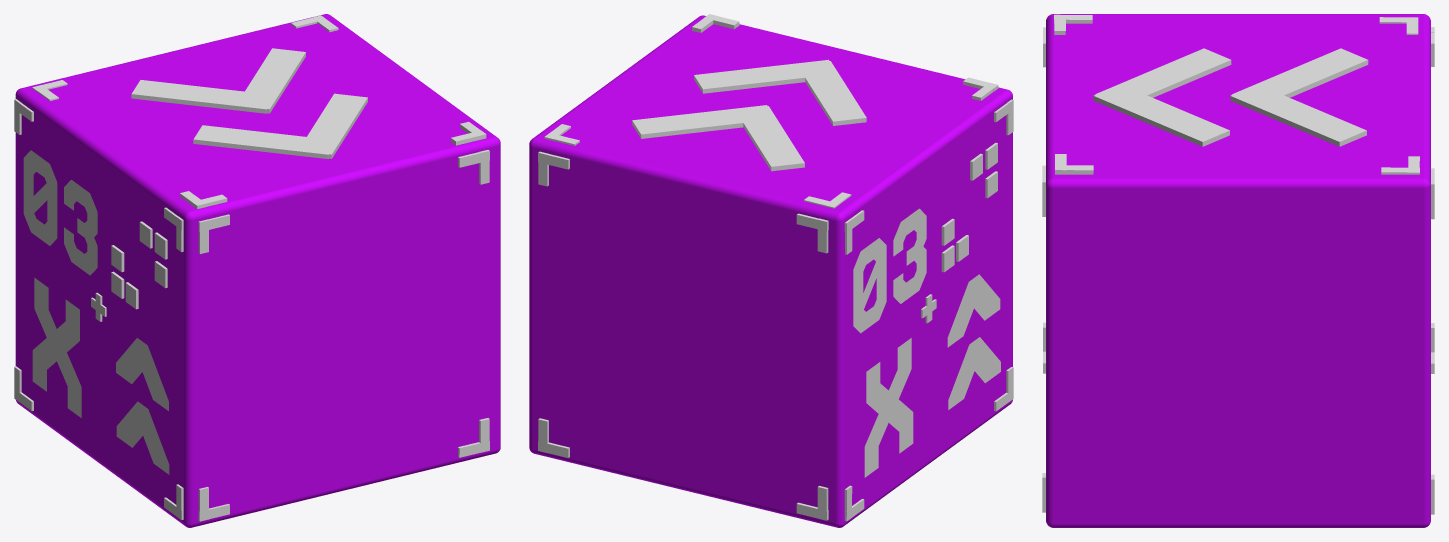
3 views of the same model, side by side, from view 1: azimuth 30°, elevation 25°; view 2: azimuth 150°, elevation 25°; view 3: azimuth 270°, elevation 25° (orthographic). The views are drawn at different scales.
Parts seen in each view (by area): view 1: Cube.001, Cube.005, Text.001, Cube, Cube.004, Cube.003, Cube.002, Text, Text.049, Text.060, Text.041, Cube.006 (+1 smaller); view 2: Cube.001, Cube.005, Text.001, Cube.002, Cube.003, Cube, Cube.004, Text, Text.060, Text.049, Text.041, Cube.009 (+1 smaller); view 3: Cube.001, Cube.005, Cube.003, Cube.002, Cube, Cube.004.
Boxes of the visible parts, x1,y1,x2,y2 form: Cube.001: [15, 14, 500, 527]; Cube.005: [14, 15, 489, 521]; Text.001: [23, 150, 97, 275]; Cube: [131, 80, 269, 113]; Cube.004: [193, 125, 330, 158]; Cube.003: [298, 93, 367, 158]; Cube.002: [245, 48, 305, 113]; Text: [34, 277, 81, 417]; Text.049: [116, 401, 169, 474]; Text.060: [116, 338, 168, 411]; Text.041: [32, 299, 79, 391]; Cube.006: [139, 221, 167, 288]; Cube.001: [529, 15, 1012, 527]; Cube.005: [538, 14, 1013, 521]; Text.001: [853, 208, 926, 333]; Cube.002: [632, 105, 774, 138]; Cube.003: [694, 59, 829, 93]; Cube: [738, 106, 804, 171]; Cube.004: [802, 61, 866, 125]; Text: [866, 362, 913, 453]; Text.060: [947, 274, 1000, 347]; Text.049: [948, 337, 1000, 409]; Text.041: [864, 338, 911, 477]; Cube.009: [941, 218, 968, 272]; Cube.001: [1046, 14, 1430, 527]; Cube.005: [1042, 14, 1434, 514]; Cube.003: [1093, 87, 1229, 146]; Cube.002: [1230, 90, 1366, 146]; Cube: [1231, 48, 1368, 102]; Cube.004: [1094, 48, 1231, 97].
Size of the model in its own units: 210 by 202 by 203.
